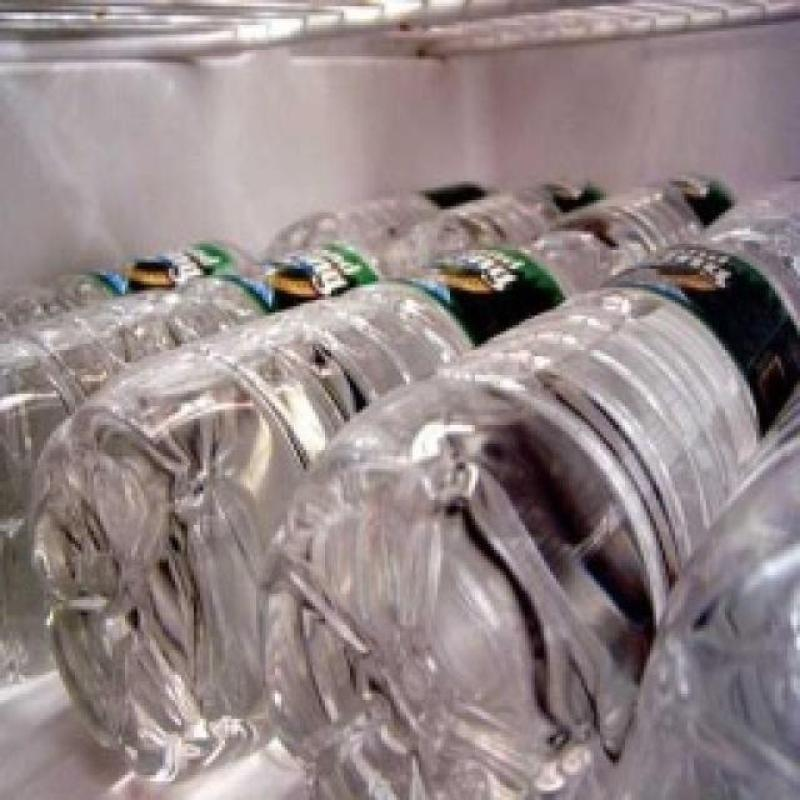botella: (31, 231, 641, 785), (259, 225, 800, 800), (0, 236, 498, 683), (628, 371, 798, 800), (0, 239, 260, 336), (268, 182, 494, 262), (400, 176, 606, 262), (544, 176, 734, 249), (709, 172, 800, 226)
